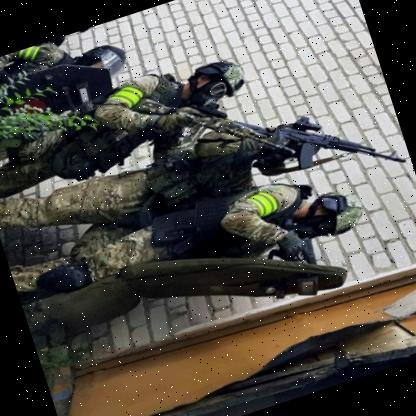rifle: (118, 58, 297, 204), (251, 89, 407, 208), (276, 229, 325, 279)
